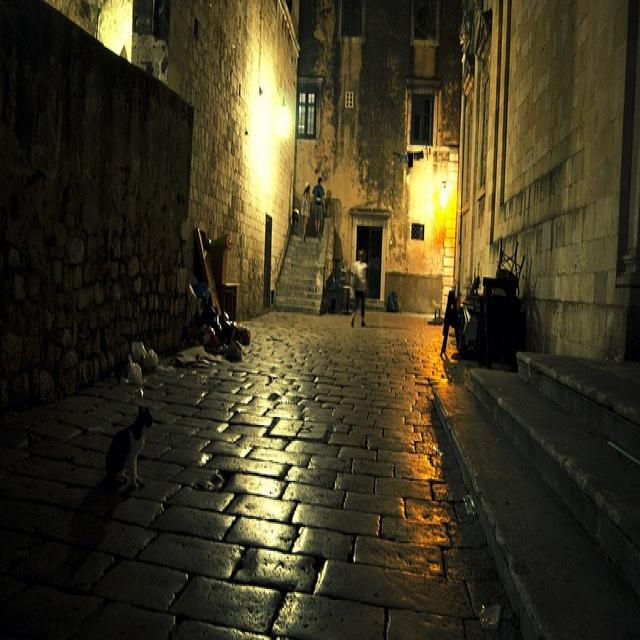Cat: (88, 397, 167, 494)
People: (347, 231, 373, 332), (291, 162, 318, 253), (313, 172, 333, 234)
